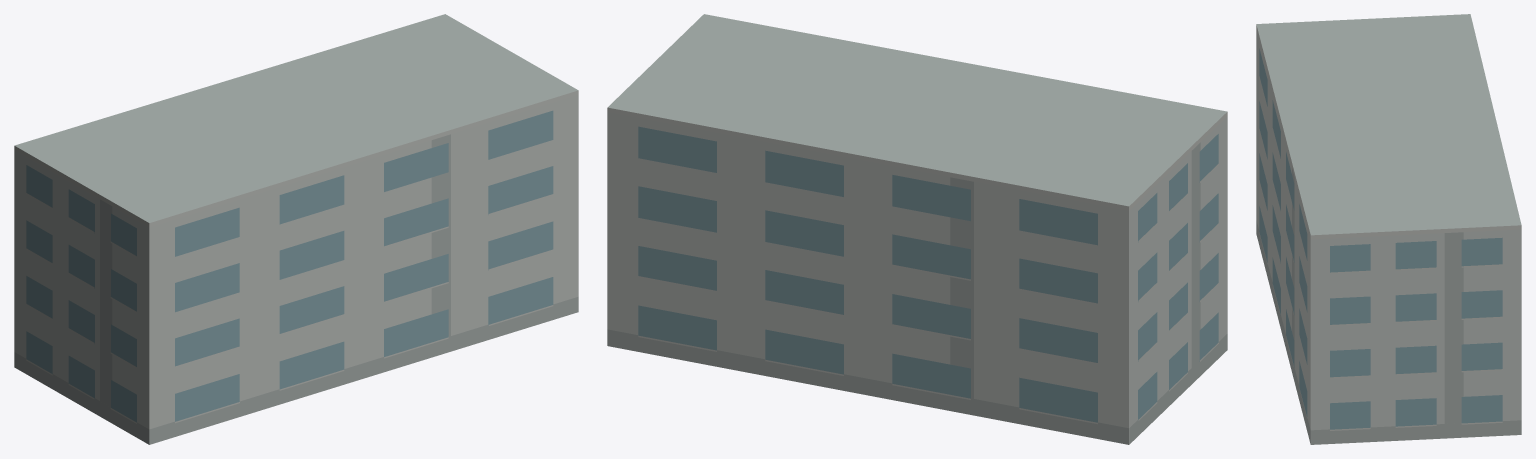
File: residential-ede861e7-6da8-4875-9b6e-3d78ab41d57c.glb
3 views of the same model, side by side, from view 1: azimuth 30°, elevation 25°; view 2: azimuth 150°, elevation 25°; view 3: azimuth 270°, elevation 25° (orthographic). The views are drawn at different scales.
Visible parts, largest first — view 1: residential-ede861e7-6da8-4875-9b6e-3d78ab41d57c.tmp; view 2: residential-ede861e7-6da8-4875-9b6e-3d78ab41d57c.tmp; view 3: residential-ede861e7-6da8-4875-9b6e-3d78ab41d57c.tmp.
Part boxes in pixels (x1,y1,x2,y2): residential-ede861e7-6da8-4875-9b6e-3d78ab41d57c.tmp: [14, 14, 578, 444]; residential-ede861e7-6da8-4875-9b6e-3d78ab41d57c.tmp: [607, 14, 1227, 444]; residential-ede861e7-6da8-4875-9b6e-3d78ab41d57c.tmp: [1256, 14, 1521, 444].
Size of the model in its own units: 27.64 by 12.2 by 14.
